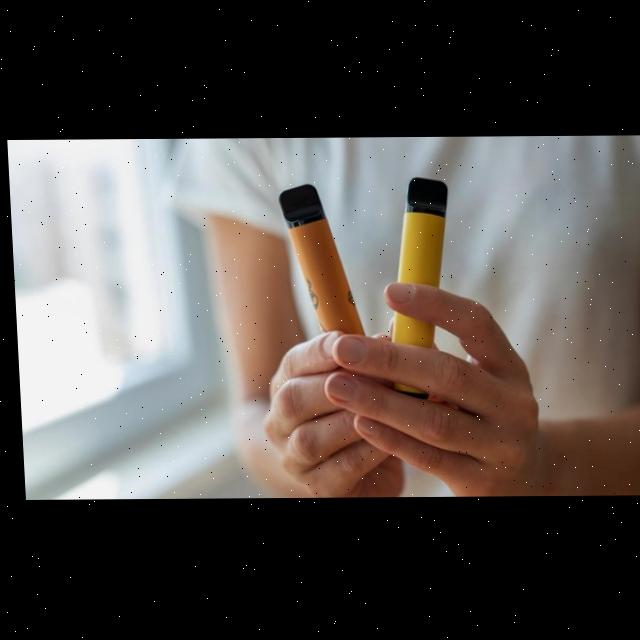vape: (379, 178, 454, 401), (274, 185, 368, 335)
